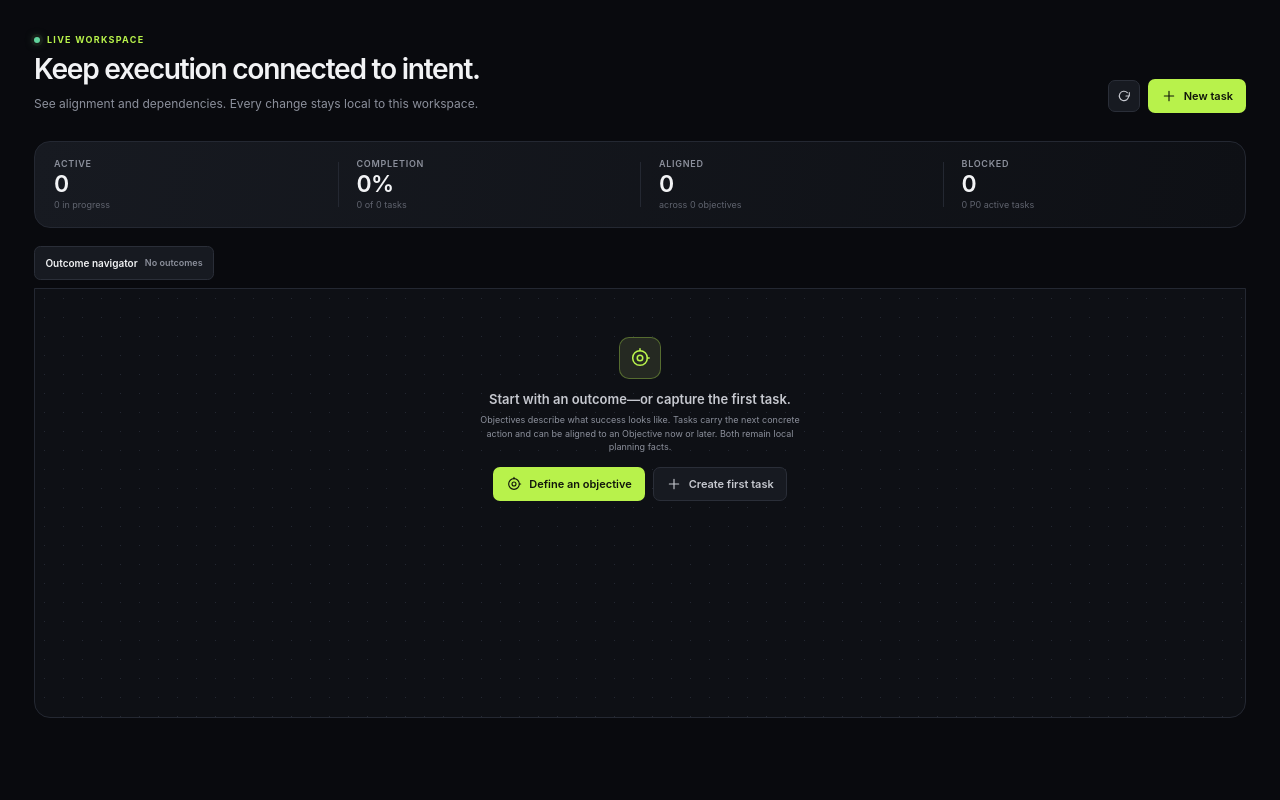
Test case: WorkspacePage outcome navigator › uses the same compact empty-branch disclosure without a second live navigator
Click the button "Outcome navigator No outcomes": [124, 263] box [34,246,214,280]
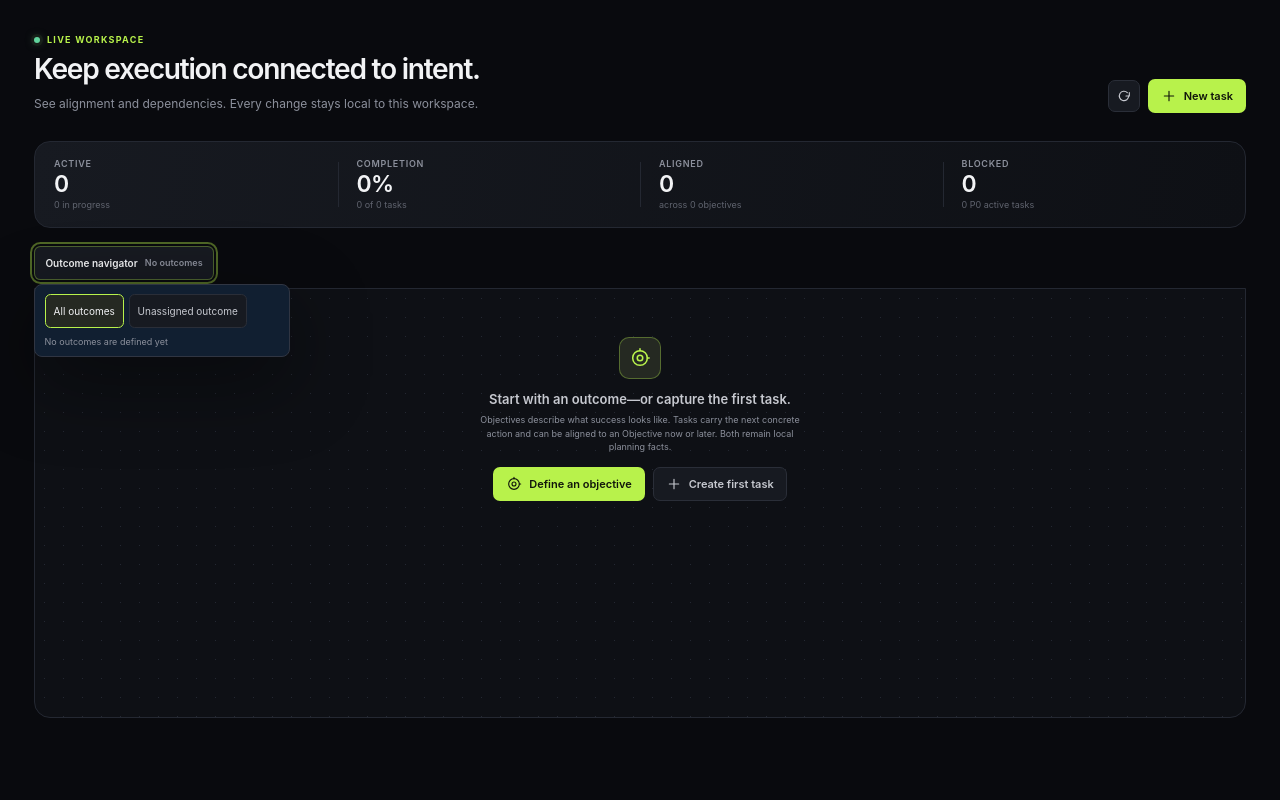
expect the heading "Start with an outcome—or capture the first task." is shown: met, box [489,391,791,407]
expect the message reads "No outcomes are defined yet": met, box [45,336,168,347]
